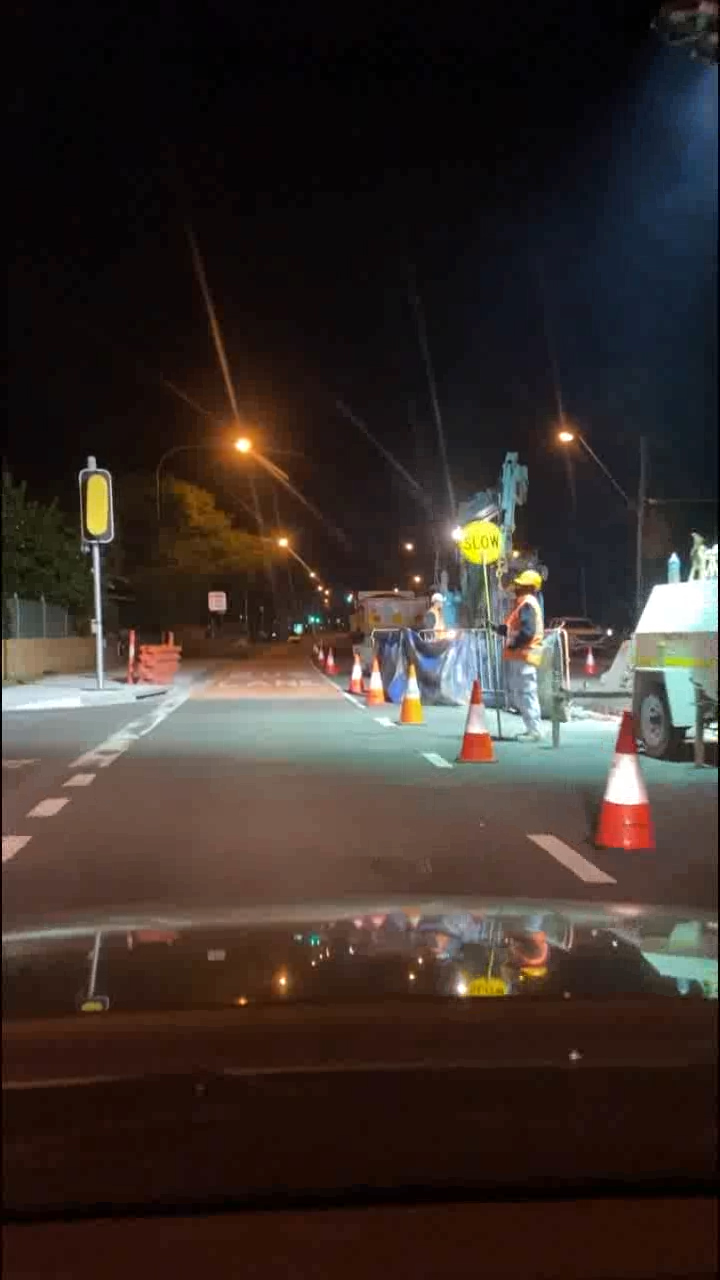person: (461, 519, 556, 738), (412, 590, 445, 634)
road cone: (587, 705, 677, 857), (127, 630, 191, 688), (454, 679, 493, 771), (350, 654, 383, 711), (399, 661, 424, 734), (306, 640, 337, 669)
